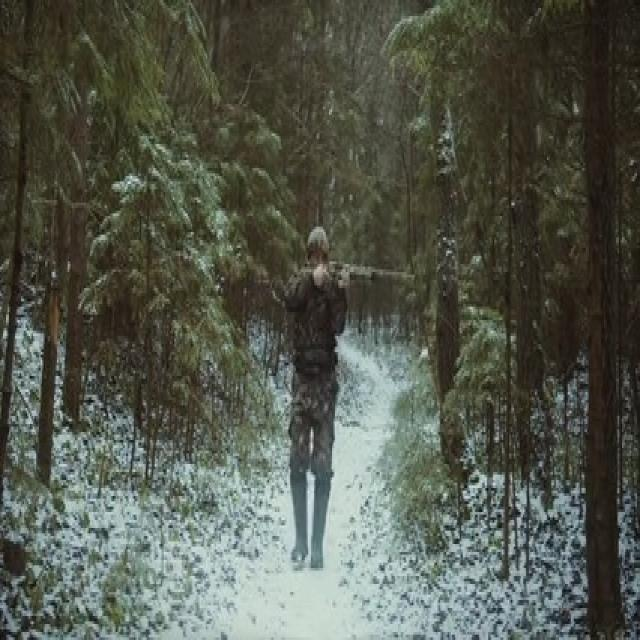Gun_Holder: (314, 255, 416, 312)
Person: (280, 220, 346, 555)
